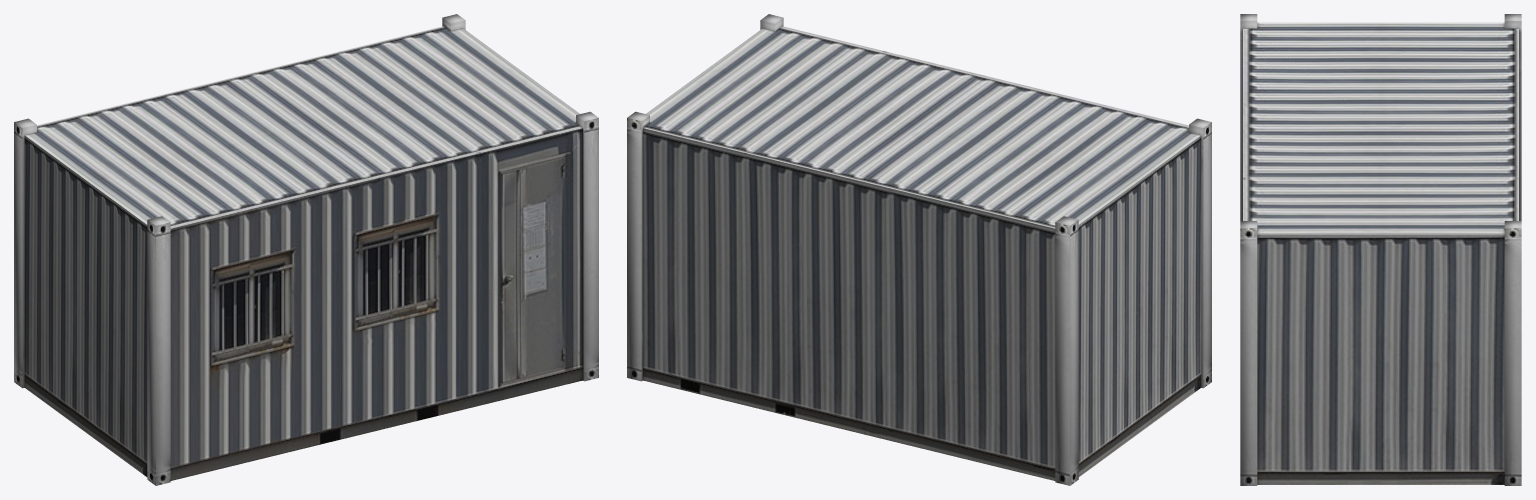
The model's file is container_1x2.gltf.
The picture shows the model from 3 angles, left to right: view 1: azimuth 30°, elevation 25°; view 2: azimuth 150°, elevation 25°; view 3: azimuth 270°, elevation 25°; orthographic projection.
Visible parts, largest first — view 1: container_1x2; view 2: container_1x2; view 3: container_1x2.
Part boxes in pixels (bbox=[...]): container_1x2: bbox=[14, 14, 598, 485]; container_1x2: bbox=[627, 14, 1211, 485]; container_1x2: bbox=[1240, 14, 1521, 485].
Bounding box in the file's own units: 45.45 × 25.5 × 25.2.
Materials: 1 (1 with a texture image).
